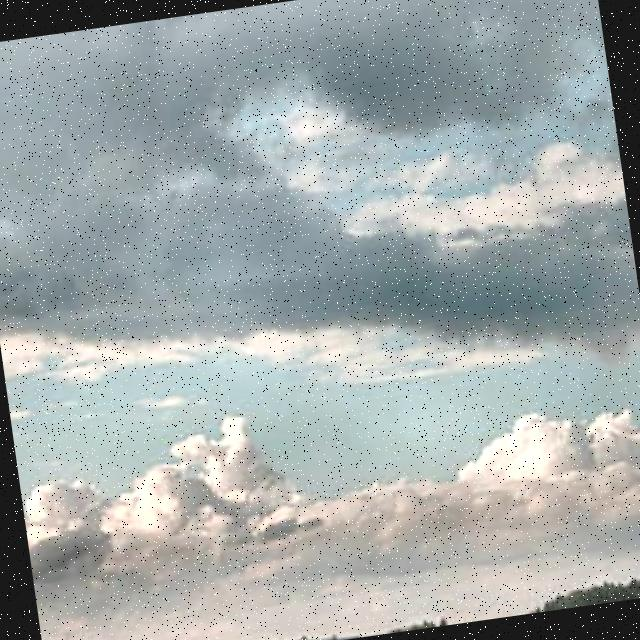Cc: (1, 1, 640, 601)
